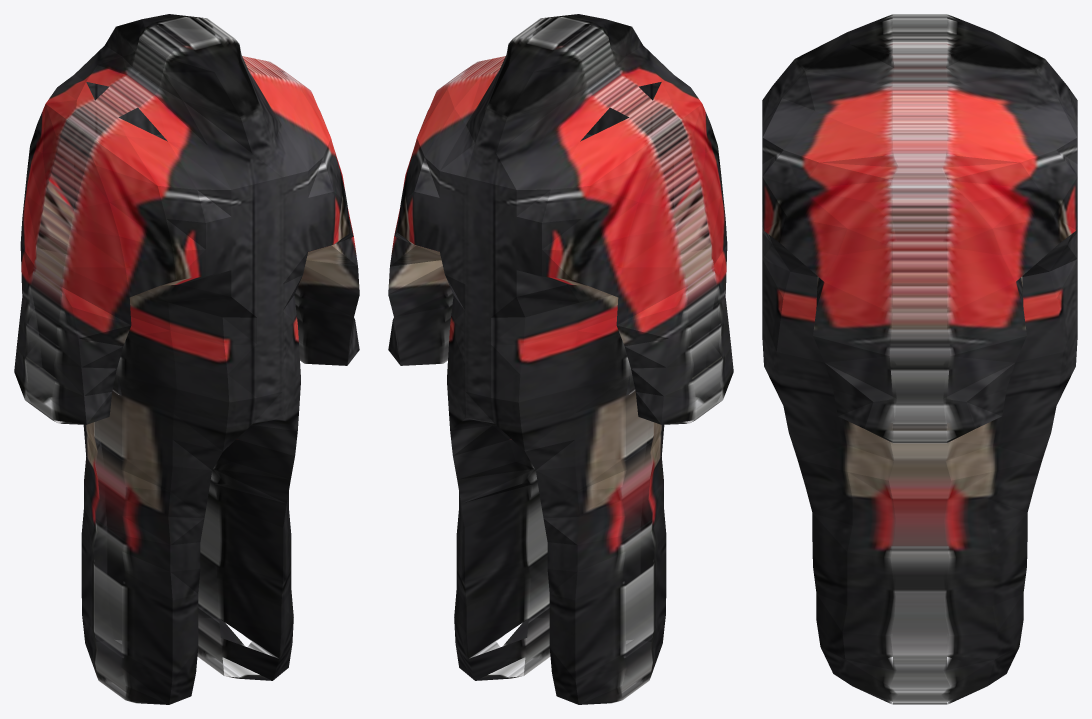
Rendered from puig-nomad-rain-gear-045.glb.
3 views of the same model, side by side, from view 1: azimuth 30°, elevation 25°; view 2: azimuth 150°, elevation 25°; view 3: azimuth 270°, elevation 25° (orthographic).
Visible parts, largest first — view 1: world; view 2: world; view 3: world.
Boxes of the visible parts, x1,y1,x2,y2 form: world: (14, 14, 359, 704); world: (388, 14, 733, 704); world: (762, 14, 1077, 704).
Size of the model in its own units: 0.4848 by 1 by 0.44.
1 material, 1 textured.
